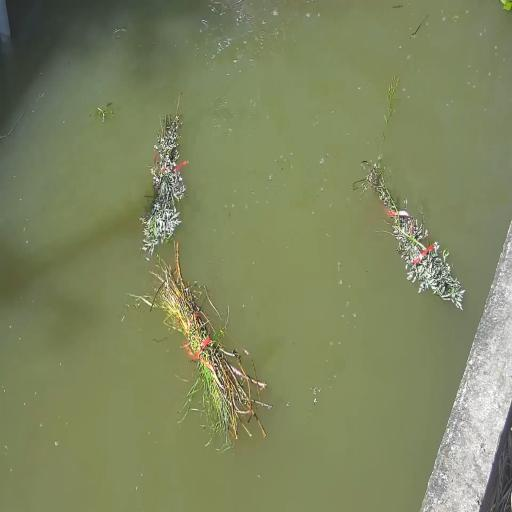twig: (132, 243, 271, 445), (353, 155, 465, 310), (140, 98, 188, 255)
